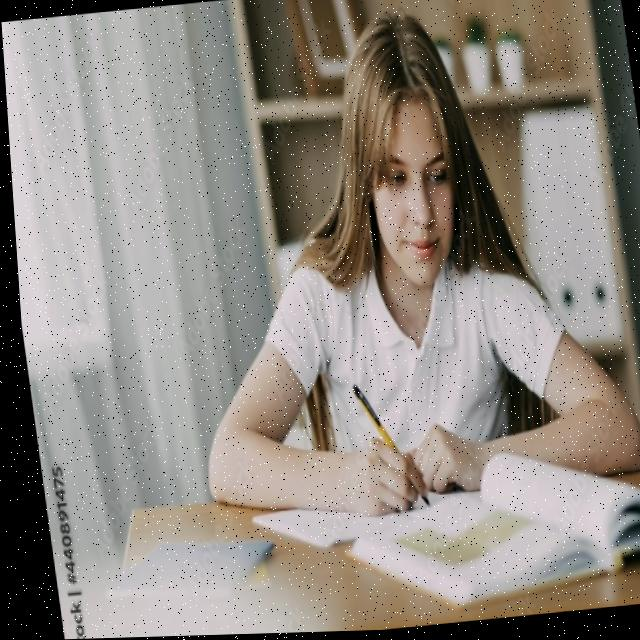studying-person: (139, 0, 640, 637)
